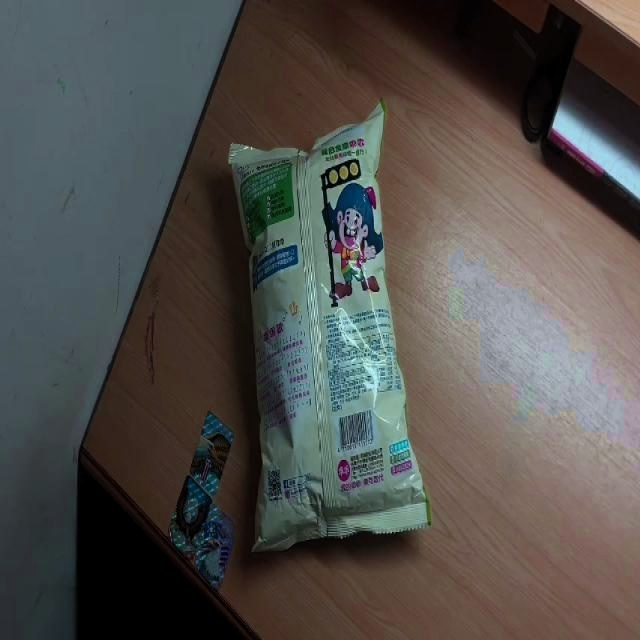Good-Luck: (227, 101, 432, 546)
